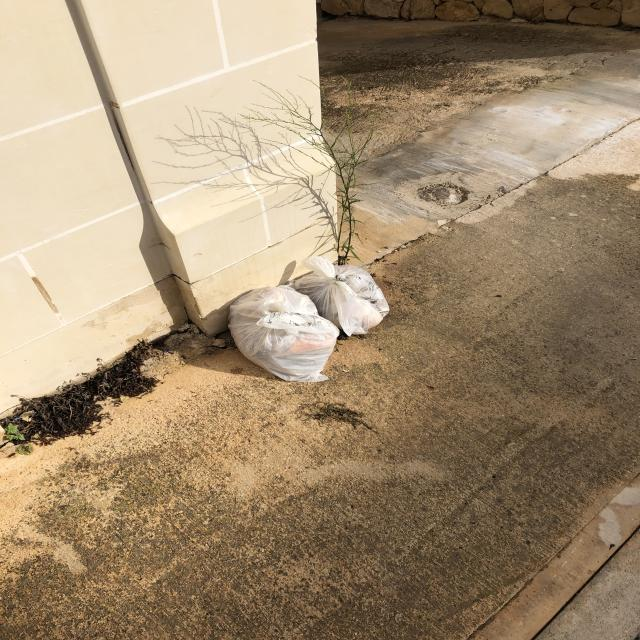Organic Waste -White Bag-: (228, 282, 340, 393), (304, 257, 400, 340)
